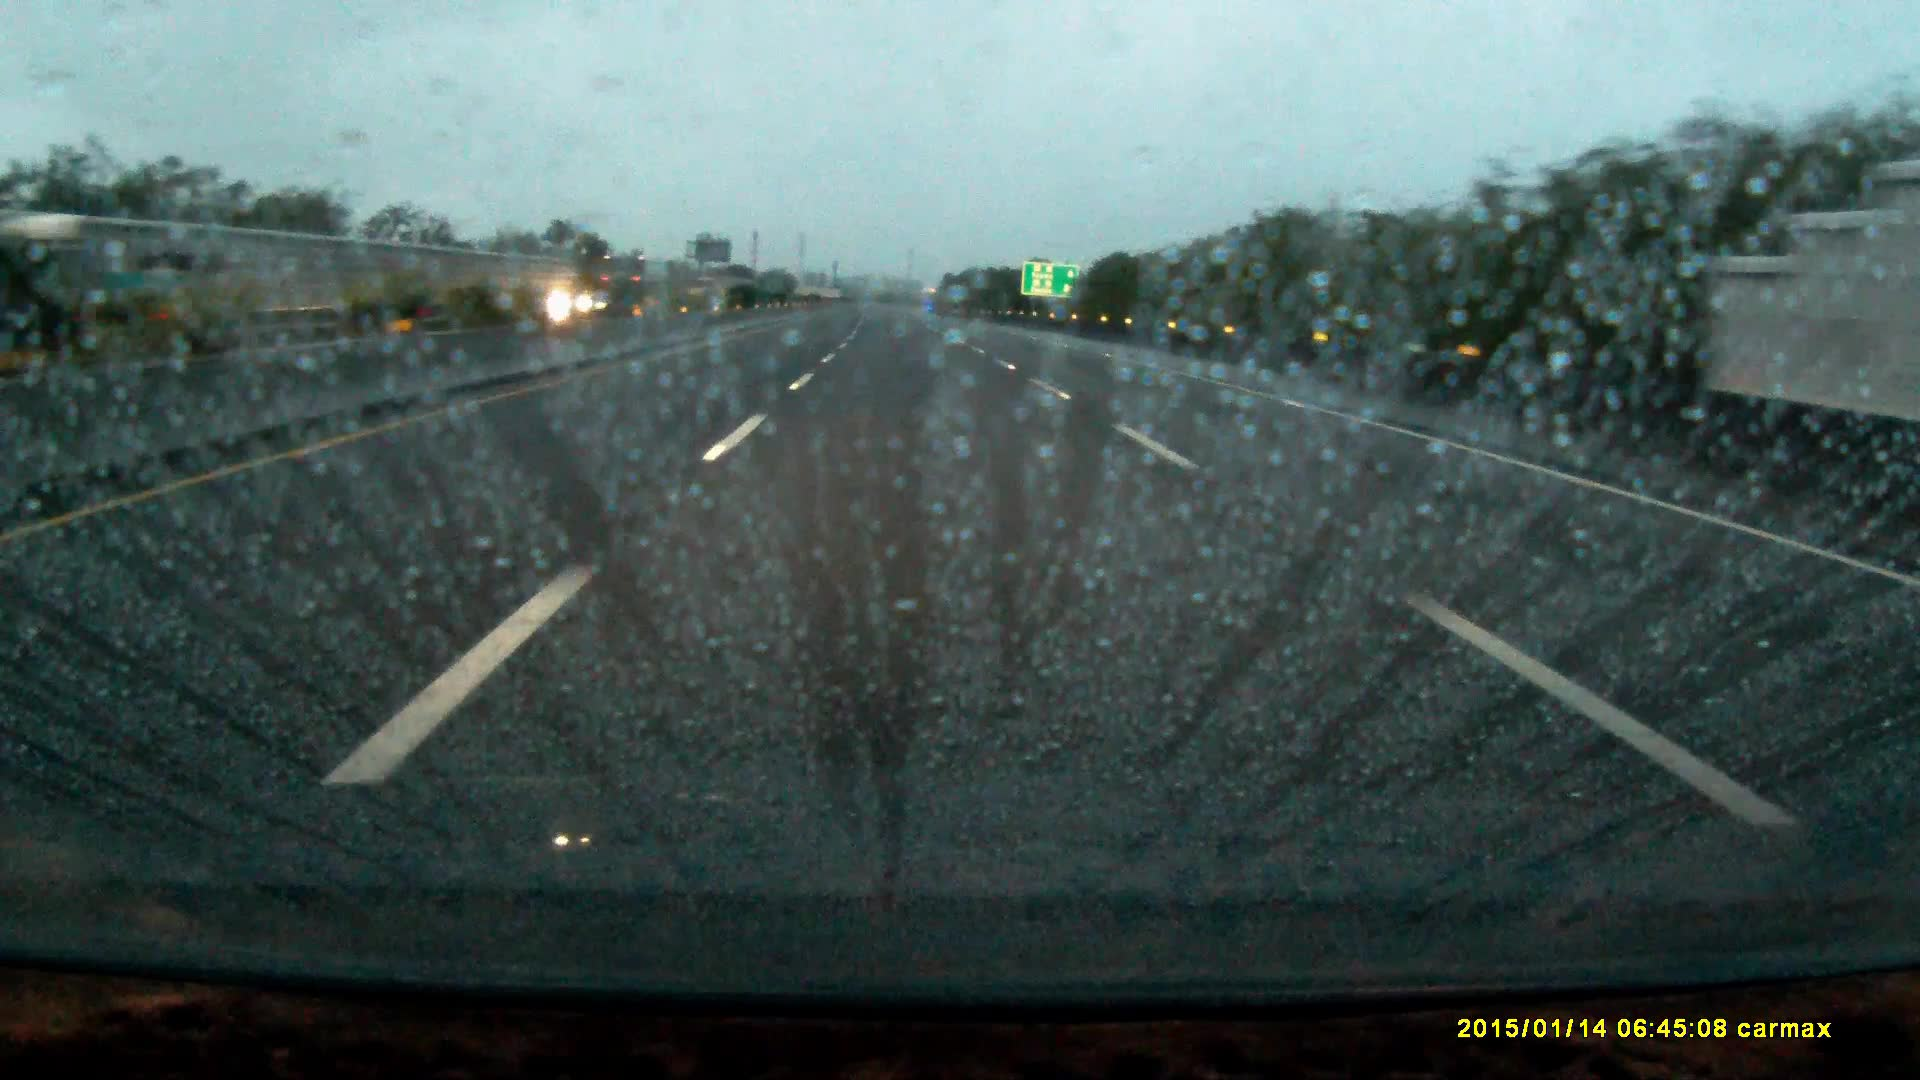vehicle: (1, 215, 260, 372), (600, 257, 673, 316), (553, 282, 605, 316)
